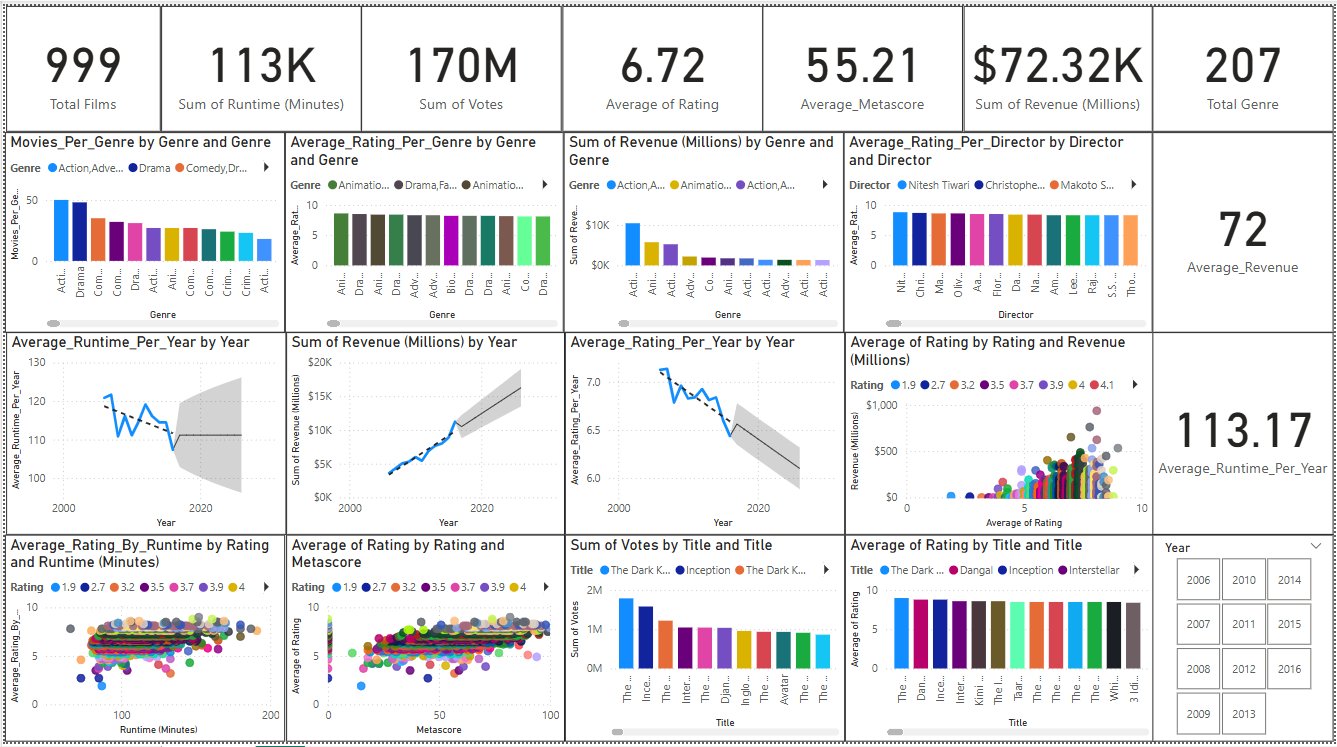

What the dashboard file says about the page in this screenshot:
{"tool":"powerbi","page":{"name":"Page 1","canvas":[1480,820],"ordinal":0},"visuals":[{"type":"columnChart","fields":{"Category":["IMDB-Movie-Data.Genre"],"Y":["IMDB-Movie-Data.Movies_Per_Genre"],"Series":["IMDB-Movie-Data.Genre"]},"box":[0,140.1,312,223.5],"z":0},{"type":"columnChart","fields":{"Category":["IMDB-Movie-Data.Genre"],"Y":["IMDB-Movie-Data.Average_Rating_Per_Genre"],"Series":["IMDB-Movie-Data.Genre"]},"box":[312,140.1,310.3,223.5],"z":1000},{"type":"columnChart","fields":{"Category":["IMDB-Movie-Data.Genre"],"Y":["IMDB-Movie-Data.Revenue (Millions)"],"Series":["IMDB-Movie-Data.Genre"]},"box":[622.2,140.1,312,223.5],"z":2000},{"type":"columnChart","fields":{"Category":["IMDB-Movie-Data.Director"],"Y":["IMDB-Movie-Data.Average_Rating_Per_Director"],"Series":["IMDB-Movie-Data.Director"]},"box":[934.2,140.1,343.6,223.5],"z":3000},{"type":"lineChart","fields":{"Category":["IMDB-Movie-Data.Year"],"Y":["IMDB-Movie-Data.Average_Runtime_Per_Year"]},"box":[1.7,363.7,312,225.2],"z":4000},{"type":"lineChart","fields":{"Category":["IMDB-Movie-Data.Year"],"Y":["IMDB-Movie-Data.Revenue (Millions)"]},"box":[313.6,363.7,310.3,225.2],"z":5000},{"type":"lineChart","fields":{"Category":["IMDB-Movie-Data.Year"],"Y":["IMDB-Movie-Data.Average_Rating_Per_Year"]},"box":[623.9,363.7,312,225.2],"z":6000},{"type":"scatterChart","fields":{"X":["IMDB-Movie-Data.Rating"],"Y":["IMDB-Movie-Data.Revenue (Millions)"],"Series":["IMDB-Movie-Data.Rating"]},"box":[935.9,363.7,343.6,225.2],"z":7000},{"type":"scatterChart","fields":{"X":["IMDB-Movie-Data.Runtime (Minutes)"],"Y":["IMDB-Movie-Data.Average_Rating_By_Runtime"],"Series":["IMDB-Movie-Data.Rating"]},"box":[0,588.9,312,230.2],"z":8000},{"type":"scatterChart","fields":{"Y":["IMDB-Movie-Data.Rating"],"X":["IMDB-Movie-Data.Metascore"],"Series":["IMDB-Movie-Data.Rating"]},"box":[313.6,588.9,310.3,230.2],"z":9000},{"type":"columnChart","fields":{"Category":["IMDB-Movie-Data.Title"],"Y":["IMDB-Movie-Data.Votes"],"Series":["IMDB-Movie-Data.Title"]},"box":[623.9,588.9,312,230.2],"z":10000},{"type":"columnChart","fields":{"Category":["IMDB-Movie-Data.Title"],"Series":["IMDB-Movie-Data.Title"],"Y":["IMDB-Movie-Data.Rating"]},"box":[935.9,588.9,345.3,230.2],"z":11000},{"type":"card","fields":{"Values":["IMDB-Movie-Data.Revenue (Millions)"]},"box":[1067.6,0,210.2,140.1],"z":12000},{"type":"card","fields":{"Values":["IMDB-Movie-Data.Runtime (Minutes)"]},"box":[173.5,0,223.5,140.1],"z":13000},{"type":"card","fields":{"Values":["IMDB-Movie-Data.Votes"]},"box":[397,0,223.5,140.1],"z":14000},{"type":"card","fields":{"Values":["IMDB-Movie-Data.Rating"]},"box":[620.6,0,223.5,140.1],"z":15000},{"type":"card","fields":{"Values":["IMDB-Movie-Data.Average_Metascore"]},"box":[844.1,0,223.5,140.1],"z":16000},{"type":"card","fields":{"Values":["IMDB-Movie-Data.Total Films"]},"box":[1.7,0,171.8,140.1],"z":17000},{"type":"card","fields":{"Values":["IMDB-Movie-Data.Total Genre"]},"box":[1277.8,0,201.9,140.1],"z":18000},{"type":"card","fields":{"Values":["IMDB-Movie-Data.Average_Revenue"]},"box":[1277.8,140.1,201.9,223.5],"z":19000},{"type":"card","fields":{"Values":["IMDB-Movie-Data.Average_Runtime_Per_Year"]},"box":[1277.8,363.7,201.9,225.2],"z":20000},{"type":"slicer","fields":{"Values":["IMDB-Movie-Data.Year"]},"box":[1277.8,588.9,201.9,230.2],"z":21000}]}

Visuals, with their boxes in screenshot pixels (x1, y1, x2, y2), scaled from the page's 1480x820 canvas onto the 1337x747 screenshot:
columnChart - IMDB-Movie-Data.Genre x IMDB-Movie-Data.Movies_Per_Genre: detection(0, 128, 282, 331)
columnChart - IMDB-Movie-Data.Genre x IMDB-Movie-Data.Average_Rating_Per_Genre: detection(282, 128, 562, 331)
columnChart - IMDB-Movie-Data.Genre x IMDB-Movie-Data.Revenue (Millions): detection(562, 128, 844, 331)
columnChart - IMDB-Movie-Data.Director x IMDB-Movie-Data.Average_Rating_Per_Director: detection(844, 128, 1154, 331)
lineChart - IMDB-Movie-Data.Year x IMDB-Movie-Data.Average_Runtime_Per_Year: detection(2, 331, 283, 536)
lineChart - IMDB-Movie-Data.Year x IMDB-Movie-Data.Revenue (Millions): detection(283, 331, 564, 536)
lineChart - IMDB-Movie-Data.Year x IMDB-Movie-Data.Average_Rating_Per_Year: detection(564, 331, 845, 536)
scatterChart - IMDB-Movie-Data.Rating x IMDB-Movie-Data.Revenue (Millions): detection(845, 331, 1156, 536)
scatterChart - IMDB-Movie-Data.Runtime (Minutes) x IMDB-Movie-Data.Average_Rating_By_Runtime: detection(0, 536, 282, 746)
scatterChart - IMDB-Movie-Data.Rating x IMDB-Movie-Data.Metascore: detection(283, 536, 564, 746)
columnChart - IMDB-Movie-Data.Title x IMDB-Movie-Data.Votes: detection(564, 536, 845, 746)
columnChart - IMDB-Movie-Data.Title x IMDB-Movie-Data.Title: detection(845, 536, 1157, 746)
card - IMDB-Movie-Data.Revenue (Millions): detection(964, 0, 1154, 128)
card - IMDB-Movie-Data.Runtime (Minutes): detection(157, 0, 359, 128)
card - IMDB-Movie-Data.Votes: detection(359, 0, 561, 128)
card - IMDB-Movie-Data.Rating: detection(561, 0, 763, 128)
card - IMDB-Movie-Data.Average_Metascore: detection(763, 0, 964, 128)
card - IMDB-Movie-Data.Total Films: detection(2, 0, 157, 128)
card - IMDB-Movie-Data.Total Genre: detection(1154, 0, 1336, 128)
card - IMDB-Movie-Data.Average_Revenue: detection(1154, 128, 1336, 331)
card - IMDB-Movie-Data.Average_Runtime_Per_Year: detection(1154, 331, 1336, 536)
slicer - IMDB-Movie-Data.Year: detection(1154, 536, 1336, 746)
